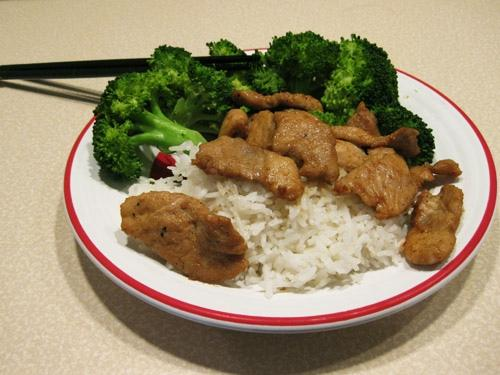broccoli: (92, 70, 208, 182), (320, 33, 399, 111), (168, 61, 243, 135), (265, 30, 342, 97), (146, 44, 195, 118), (376, 106, 436, 166), (206, 37, 250, 78), (246, 63, 290, 95)
